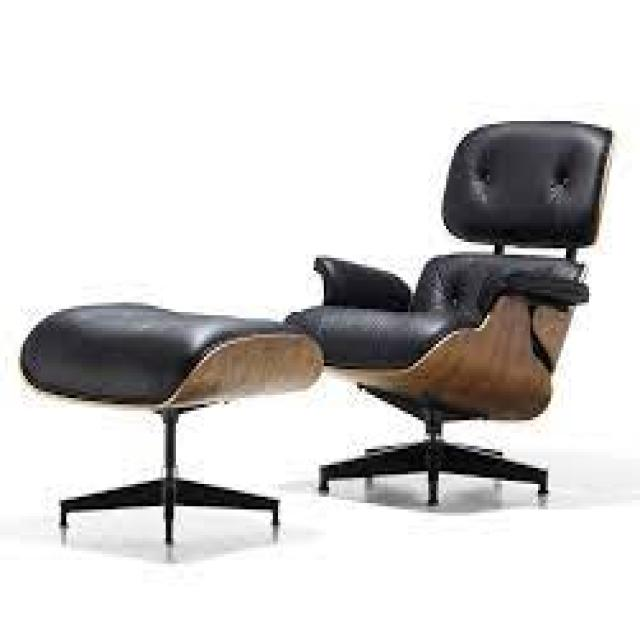chair: (238, 69, 622, 544)
